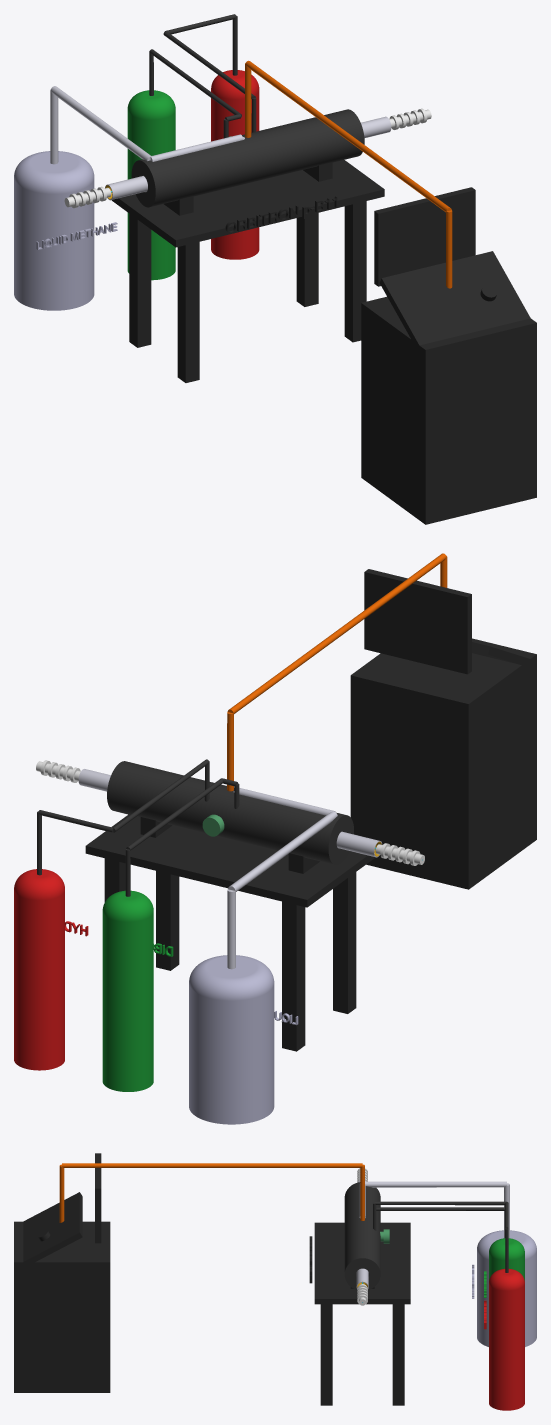
File: orbitron_lab_v4.gltf
The picture shows the model from 3 angles, top to bottom: view 1: azimuth 30°, elevation 25°; view 2: azimuth 150°, elevation 25°; view 3: azimuth 270°, elevation 25°; orthographic projection. The views are drawn at different scales.
Parts seen in each view (by area): view 1: Operator_Console, Optics_Table, Tank_Cryo_Methane, Magnet, Tank_Diborane, Tank_Hydrogen, High_Voltage_Umbilical, Fuel_Gas_Lines, Cryo_Methane_Piping, Insulators, Anode; view 2: Operator_Console, Optics_Table, Tank_Cryo_Methane, Magnet, Tank_Diborane, Tank_Hydrogen, Fuel_Gas_Lines, High_Voltage_Umbilical, Cryo_Methane_Piping, Insulators, Anode; view 3: Operator_Console, Optics_Table, Tank_Hydrogen, Magnet, Tank_Cryo_Methane, High_Voltage_Umbilical, Fuel_Gas_Lines, Cryo_Methane_Piping, Tank_Diborane.
Part boxes in pixels (bbox=[...]): Operator_Console: bbox=[361, 187, 536, 524]; Optics_Table: bbox=[111, 160, 384, 382]; Tank_Cryo_Methane: bbox=[14, 151, 117, 310]; Magnet: bbox=[131, 109, 364, 207]; Tank_Diborane: bbox=[127, 90, 175, 280]; Tank_Hydrogen: bbox=[211, 70, 259, 259]; High_Voltage_Umbilical: bbox=[245, 60, 452, 288]; Fuel_Gas_Lines: bbox=[149, 14, 256, 138]; Cryo_Methane_Piping: bbox=[50, 86, 244, 164]; Insulators: bbox=[64, 108, 431, 208]; Anode: bbox=[105, 116, 391, 200]; Operator_Console: bbox=[350, 569, 536, 889]; Optics_Table: bbox=[85, 814, 375, 1051]; Tank_Cryo_Methane: bbox=[189, 955, 298, 1124]; Magnet: bbox=[107, 761, 353, 865]; Tank_Diborane: bbox=[102, 890, 173, 1091]; Tank_Hydrogen: bbox=[14, 869, 88, 1070]; Fuel_Gas_Lines: bbox=[37, 759, 239, 896]; High_Voltage_Umbilical: bbox=[227, 553, 447, 791]; Cryo_Methane_Piping: bbox=[227, 788, 337, 969]; Insulators: bbox=[36, 760, 424, 865]; Anode: bbox=[78, 769, 382, 857]; Operator_Console: bbox=[14, 1153, 110, 1392]; Optics_Table: bbox=[309, 1222, 410, 1405]; Tank_Hydrogen: bbox=[484, 1268, 524, 1410]; Magnet: bbox=[344, 1182, 380, 1289]; Tank_Cryo_Methane: bbox=[472, 1230, 536, 1346]; High_Voltage_Umbilical: bbox=[59, 1163, 364, 1222]; Fuel_Gas_Lines: bbox=[373, 1201, 508, 1272]; Cryo_Methane_Piping: bbox=[359, 1181, 509, 1238]; Tank_Diborane: bbox=[484, 1238, 524, 1297].
Bounding box in the file's own units: 2.6 × 1.92 × 4.35.
